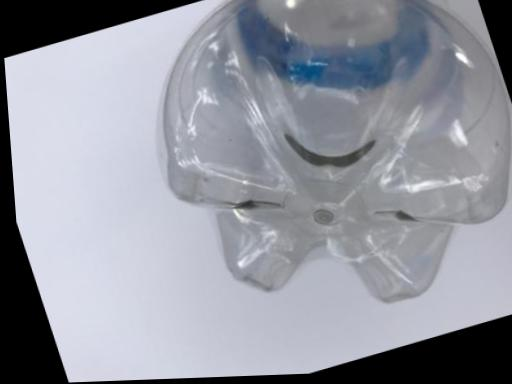plastic: (106, 0, 512, 362)
